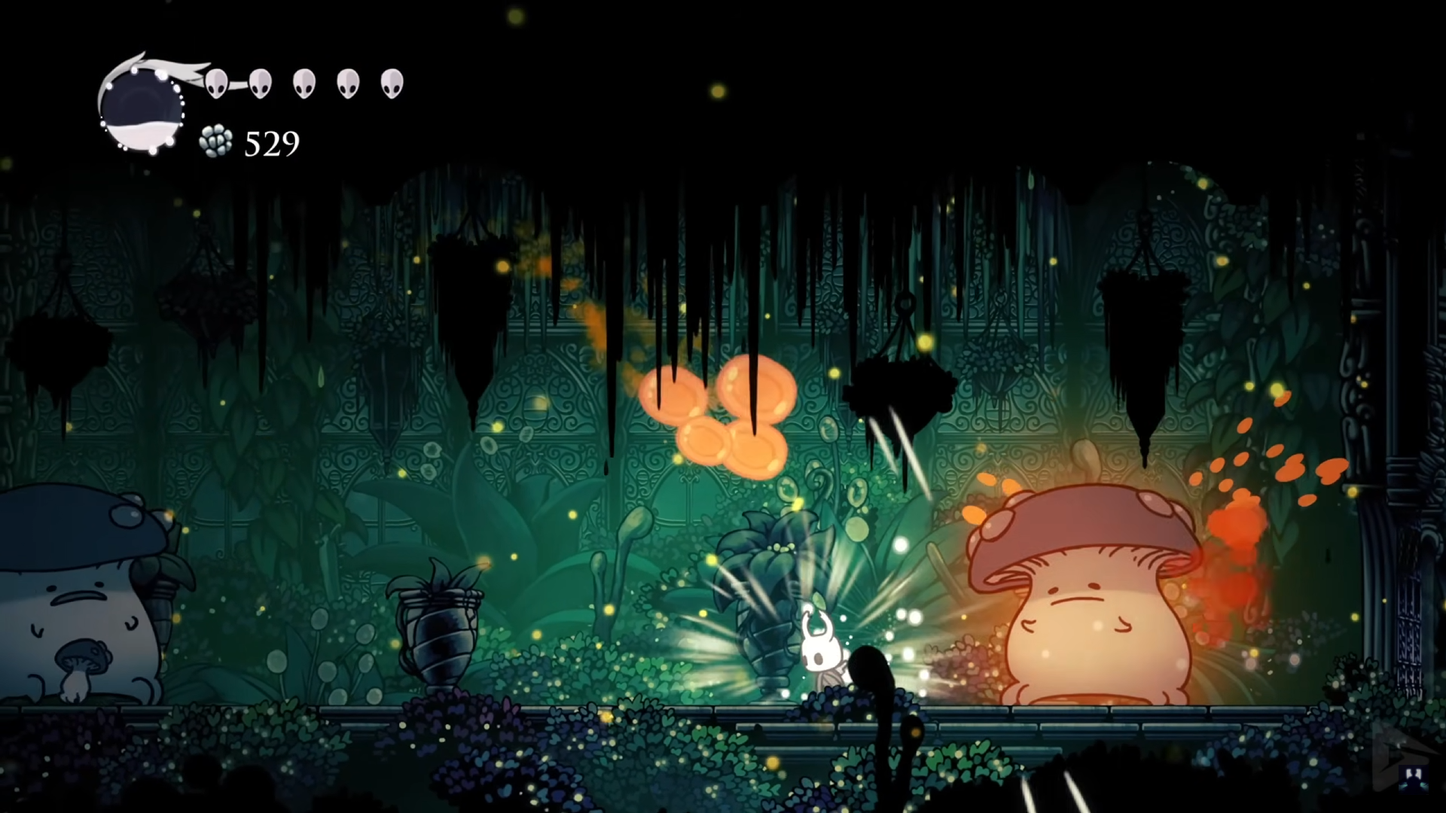HK: (792, 606, 859, 717)
